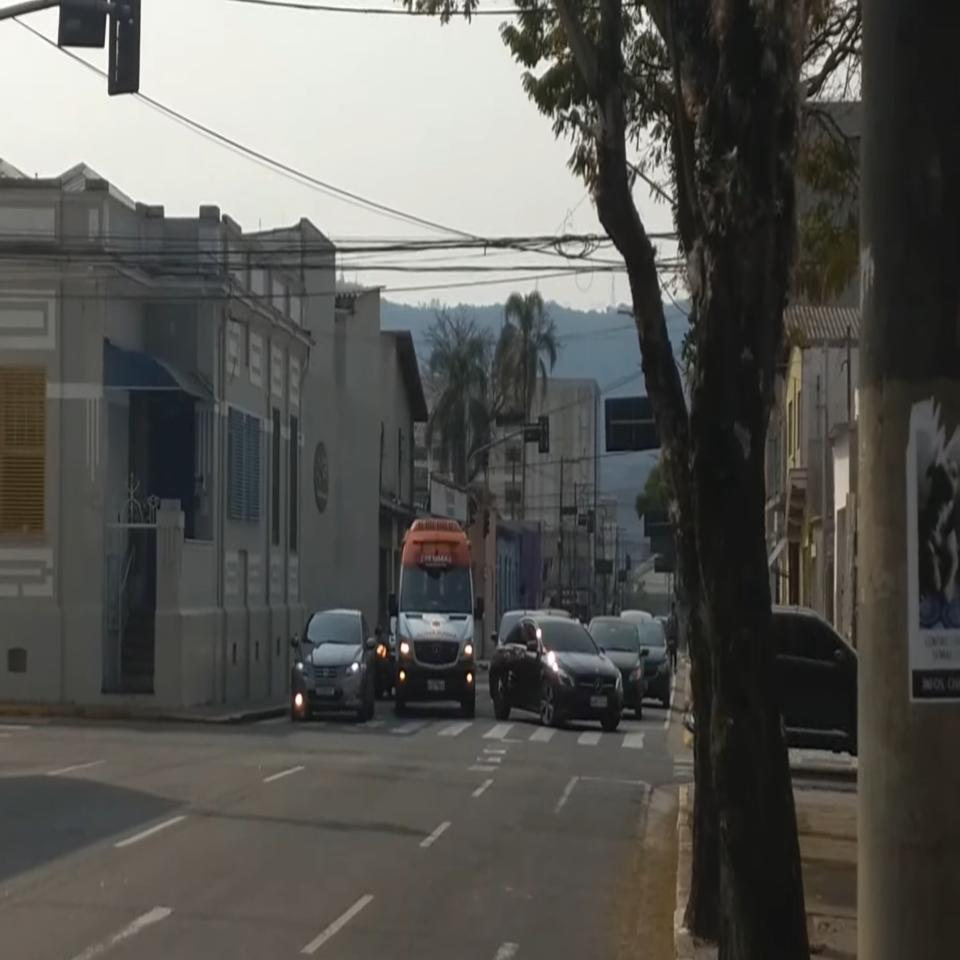bombeiro: (384, 514, 489, 723)
